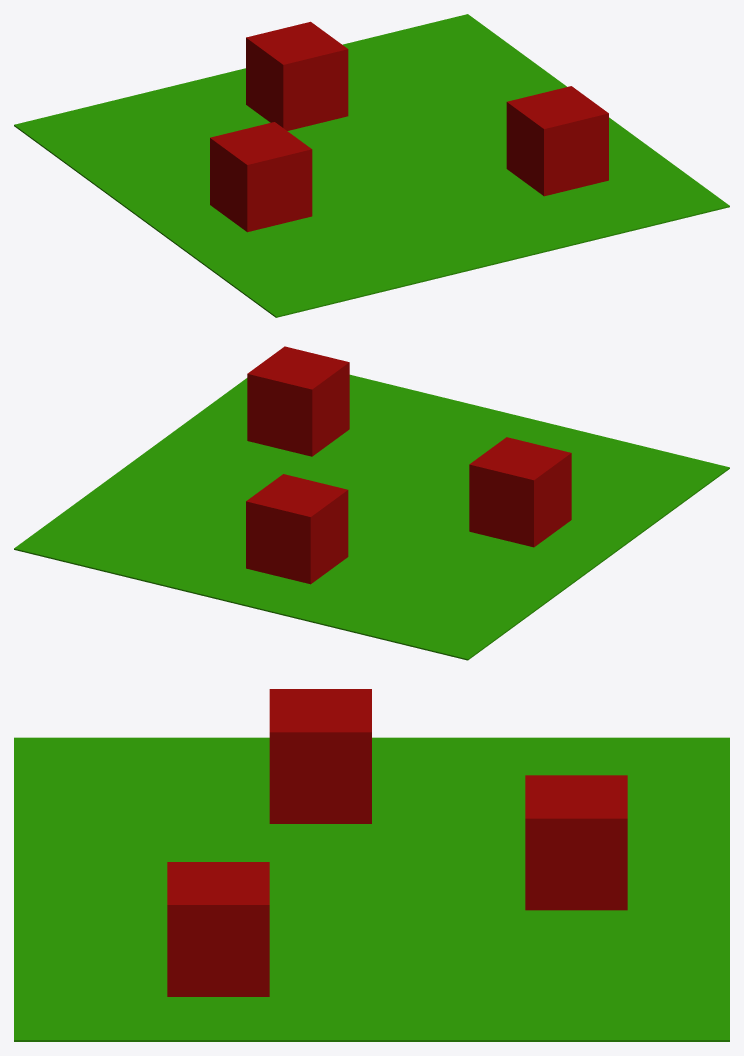
Rendered from level.obj.
3 renders of one model, top to bottom at view 1: azimuth 30°, elevation 25°; view 2: azimuth 150°, elevation 25°; view 3: azimuth 270°, elevation 25°, orthographic. The views are drawn at different scales.
Visible parts, largest first — view 1: Cube.004, Cube.003, Cube.002, Cube.001; view 2: Cube.004, Cube.002, Cube.003, Cube.001; view 3: Cube.004, Cube.001, Cube.003, Cube.002.
Part boxes in pixels (left/top/right/bottom): Cube.004: left=14, top=14, right=729, bottom=317; Cube.003: left=210, top=122, right=312, bottom=232; Cube.002: left=506, top=86, right=608, bottom=196; Cube.001: left=246, top=21, right=348, bottom=130; Cube.004: left=14, top=374, right=729, bottom=660; Cube.002: left=247, top=346, right=349, bottom=456; Cube.003: left=469, top=437, right=571, bottom=547; Cube.001: left=246, top=474, right=348, bottom=584; Cube.004: left=14, top=737, right=729, bottom=1041; Cube.001: left=525, top=775, right=627, bottom=910; Cube.003: left=269, top=689, right=371, bottom=823; Cube.002: left=167, top=862, right=269, bottom=996.
Bounding box in the file's own units: 14 × 2.02 × 14.
